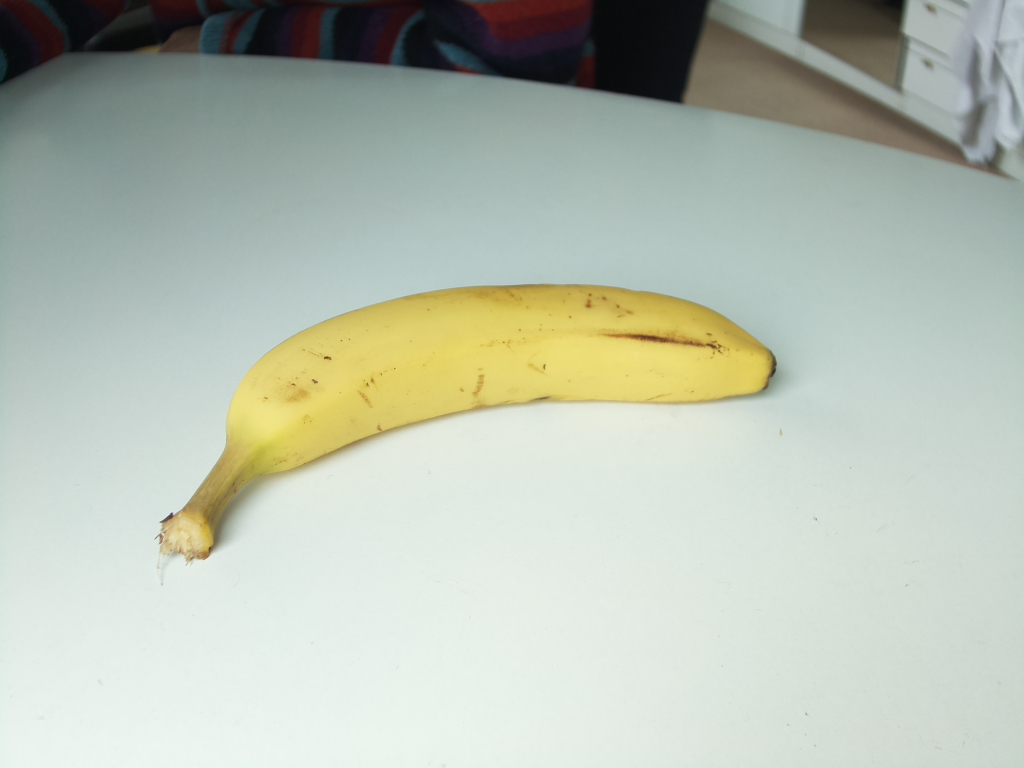banana: (161, 280, 777, 563)
